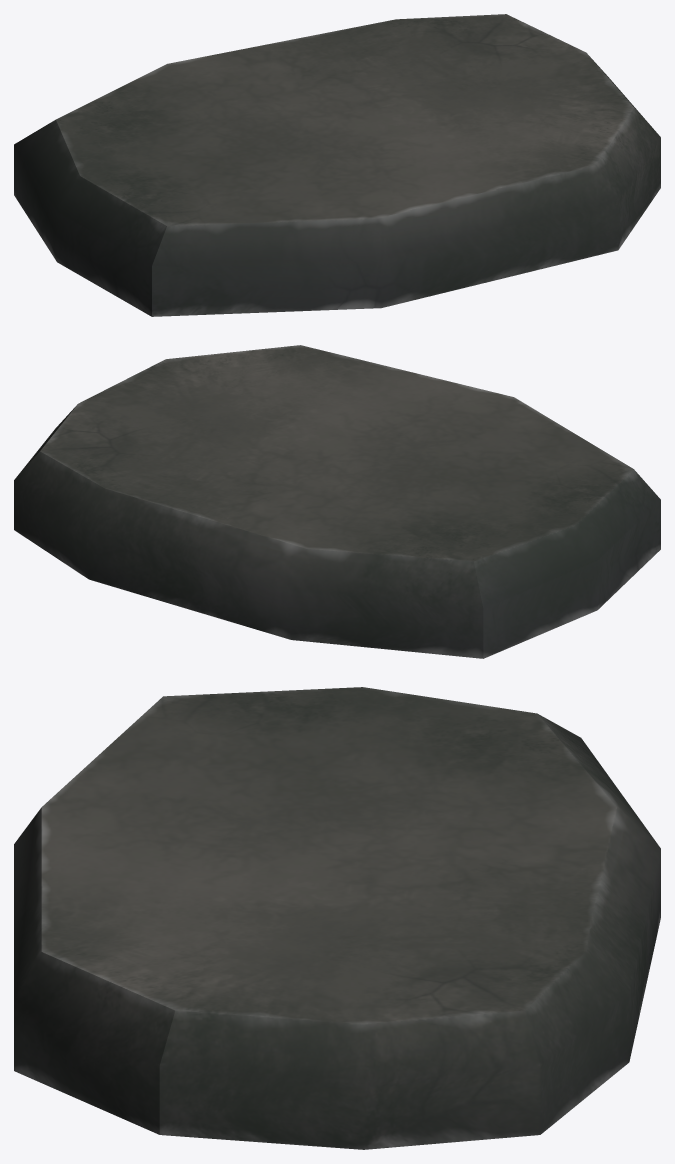
Rendered from STONE.fbx.
The picture shows the model from 3 angles, top to bottom: view 1: azimuth 30°, elevation 25°; view 2: azimuth 150°, elevation 25°; view 3: azimuth 270°, elevation 25°; orthographic projection. The views are drawn at different scales.
Visible parts, largest first — view 1: pCube1; view 2: pCube1; view 3: pCube1.
Part boxes in pixels (x1,y1,x2,y2): pCube1: [14, 14, 660, 316]; pCube1: [14, 345, 660, 658]; pCube1: [14, 687, 660, 1149].
Bounding box in the file's own units: 142 × 19.94 × 106.
